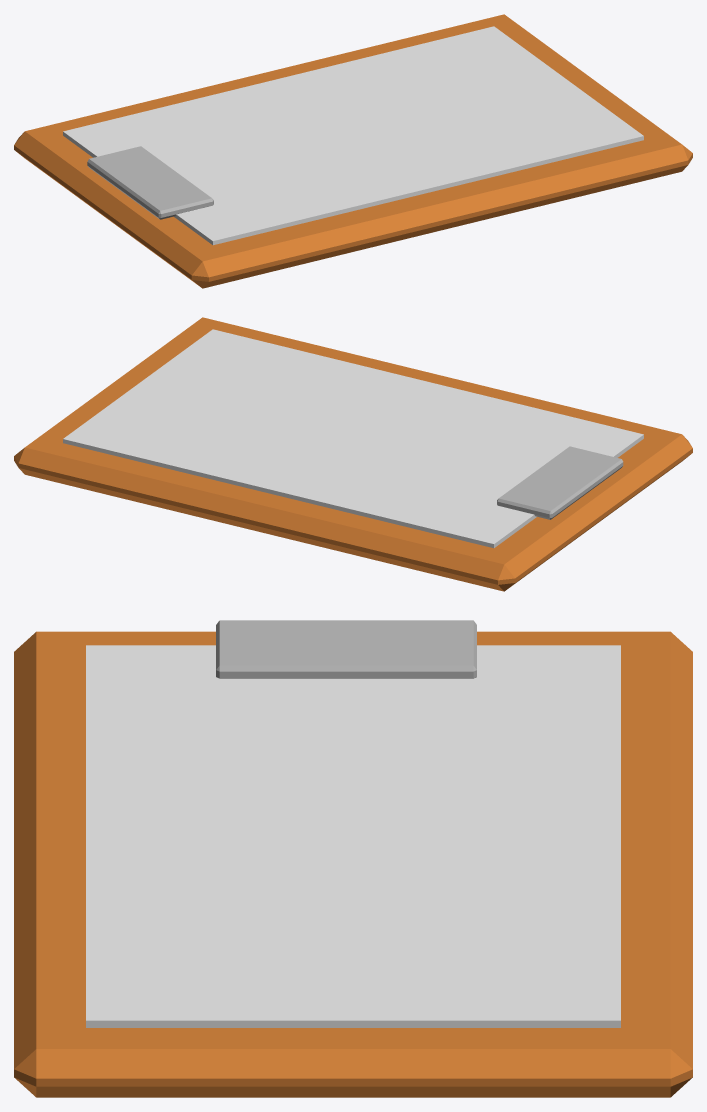
File: Clipboard.glb
The picture shows the model from 3 angles, top to bottom: view 1: azimuth 30°, elevation 25°; view 2: azimuth 150°, elevation 25°; view 3: azimuth 270°, elevation 25°; orthographic projection. The views are drawn at different scales.
Parts seen in each view (by area): view 1: Clipboard; view 2: Clipboard; view 3: Clipboard.
Boxes of the visible parts, box(x1,y1,x2,y2) form: Clipboard: box(14, 14, 692, 288); Clipboard: box(14, 317, 692, 591); Clipboard: box(14, 620, 692, 1097).
Size of the model in its own units: 78.24 by 5.66 by 51.47.
